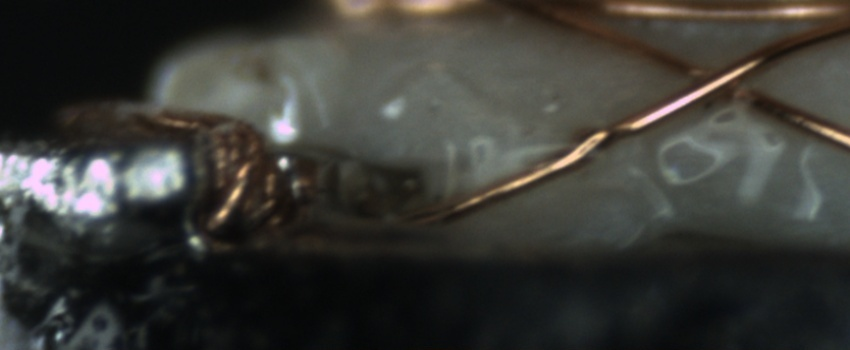CL: (660, 43, 795, 128)
TE: (141, 105, 317, 246)
